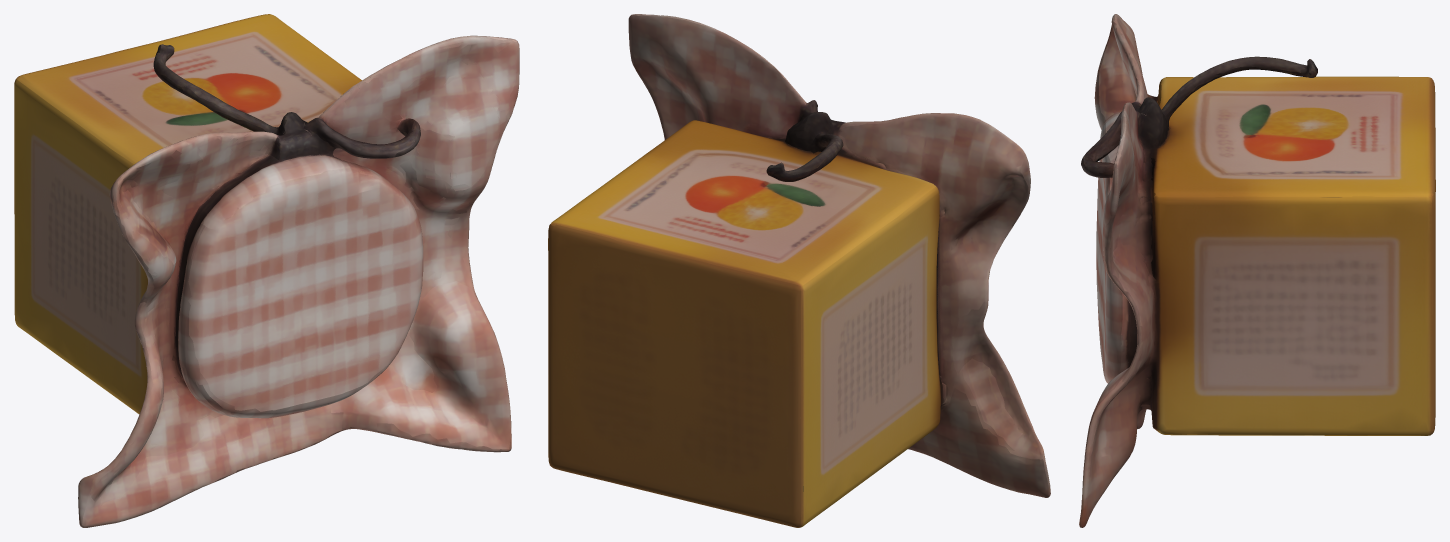
The model's file is jam.obj.
3 renders of one model, left to right at view 1: azimuth 30°, elevation 25°; view 2: azimuth 150°, elevation 25°; view 3: azimuth 270°, elevation 25°, orthographic. The views are drawn at different scales.
Bounding box in the file's own units: 0.0962 × 0.0857 × 0.0711.
Materials: 1 (1 with a texture image).
